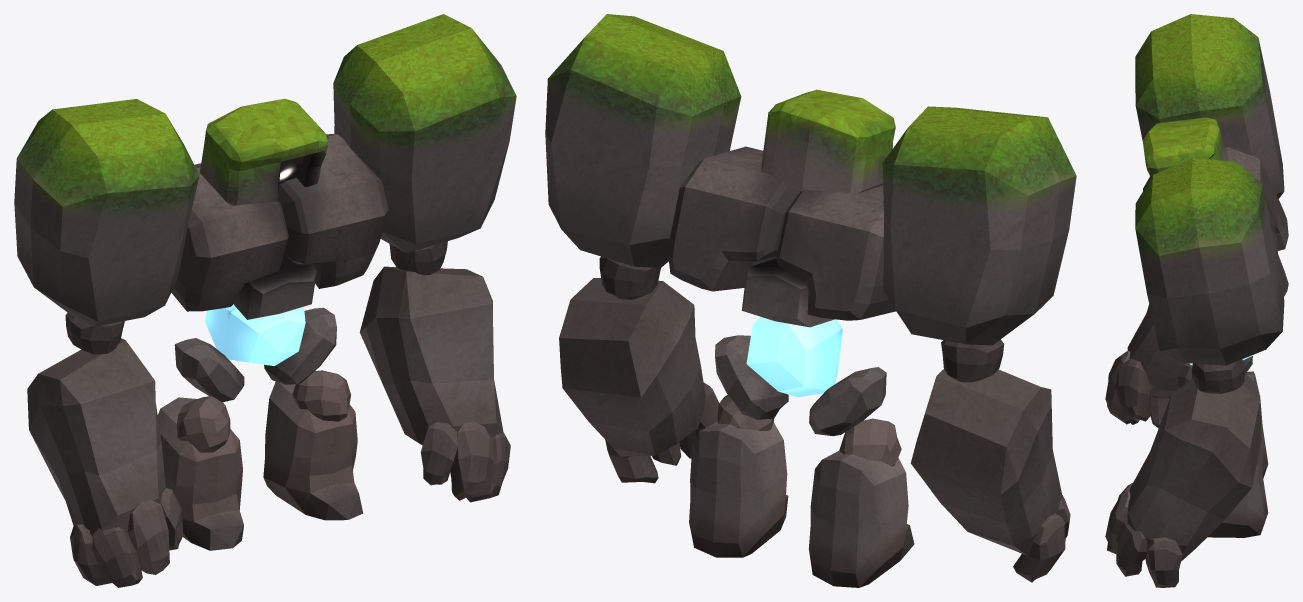
The model's file is golem.gltf.
3 views of the same model, side by side, from view 1: azimuth 30°, elevation 25°; view 2: azimuth 150°, elevation 25°; view 3: azimuth 270°, elevation 25° (orthographic). The views are drawn at different scales.
Visible parts, largest first — view 1: Golem; view 2: Golem; view 3: Golem.
Part boxes in pixels (x1,y1,x2,y2): Golem: (14,14,516,587); Golem: (545,14,1076,587); Golem: (1105,14,1288,587).
Bounding box in the file's own units: 7.56 × 7 × 2.86.
Materials: 1 (1 with a texture image).
